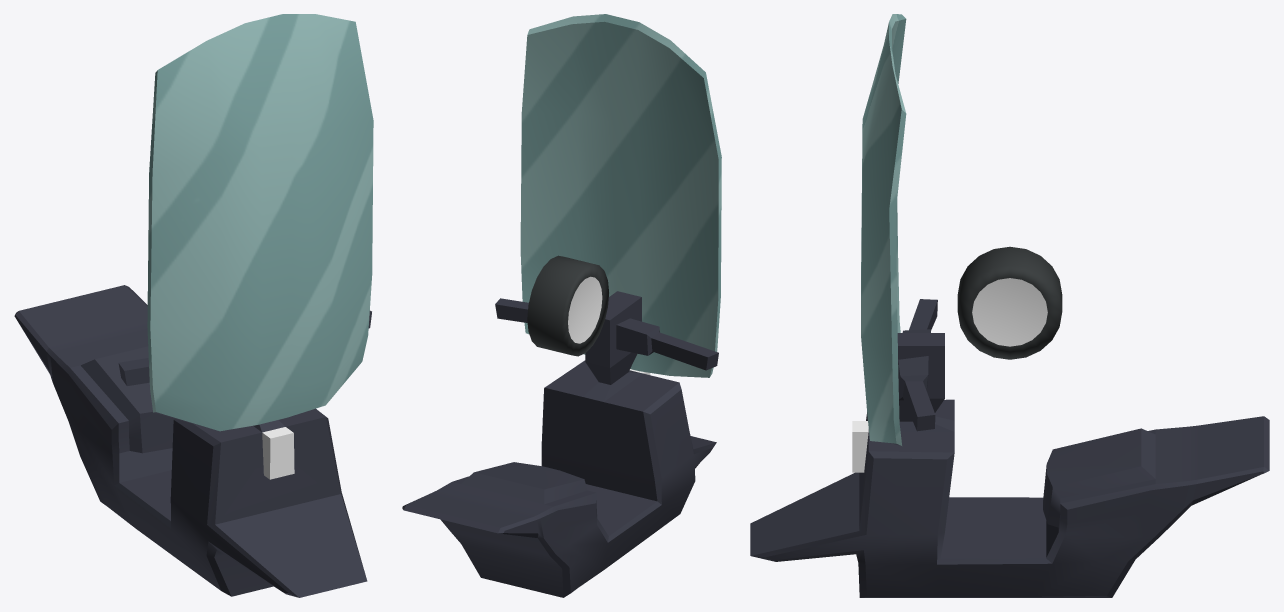
Rendered from scooter 1 red.fbx.
The picture shows the model from 3 angles, left to right: view 1: azimuth 30°, elevation 25°; view 2: azimuth 150°, elevation 25°; view 3: azimuth 270°, elevation 25°; orthographic projection. The views are drawn at different scales.
Visible parts, largest first — view 1: scooter_1_red; view 2: scooter_1_red, scooter_1_red_wheel; view 3: scooter_1_red, scooter_1_red_wheel.
Part boxes in pixels (<box>): scooter_1_red: <box>14,14,373,597</box>; scooter_1_red: <box>402,14,721,597</box>; scooter_1_red_wheel: <box>527,255,608,356</box>; scooter_1_red: <box>750,14,1269,597</box>; scooter_1_red_wheel: <box>957,246,1062,359</box>.
Bounding box in the file's own units: 55.02 × 118 × 102.
